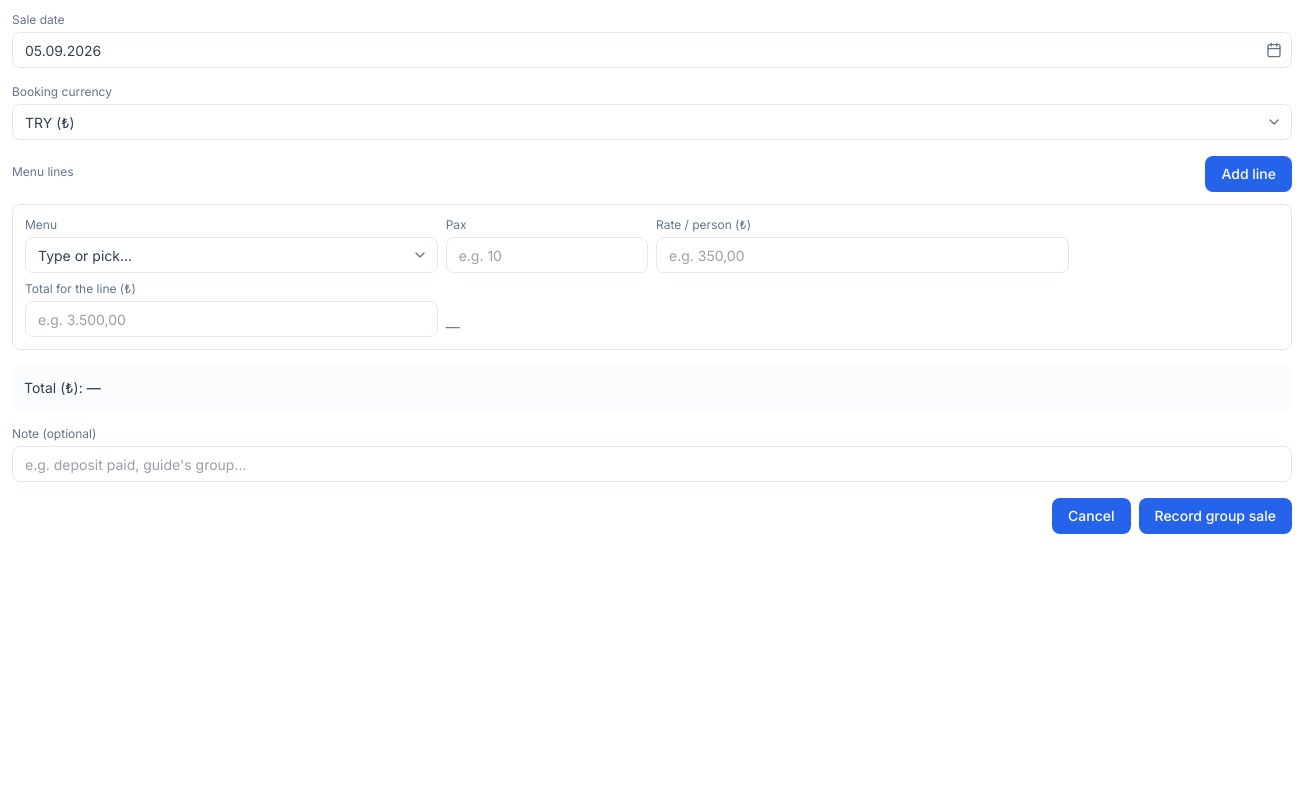
GroupSaleForm rate + footer copy › USD with blank sale-date rate shows optional label, forex-only helper, and conversion footer
Replace the text in the dropdown labelled "Booking currency" with "USD". click: (652, 122)
box: [12,104,1292,140]
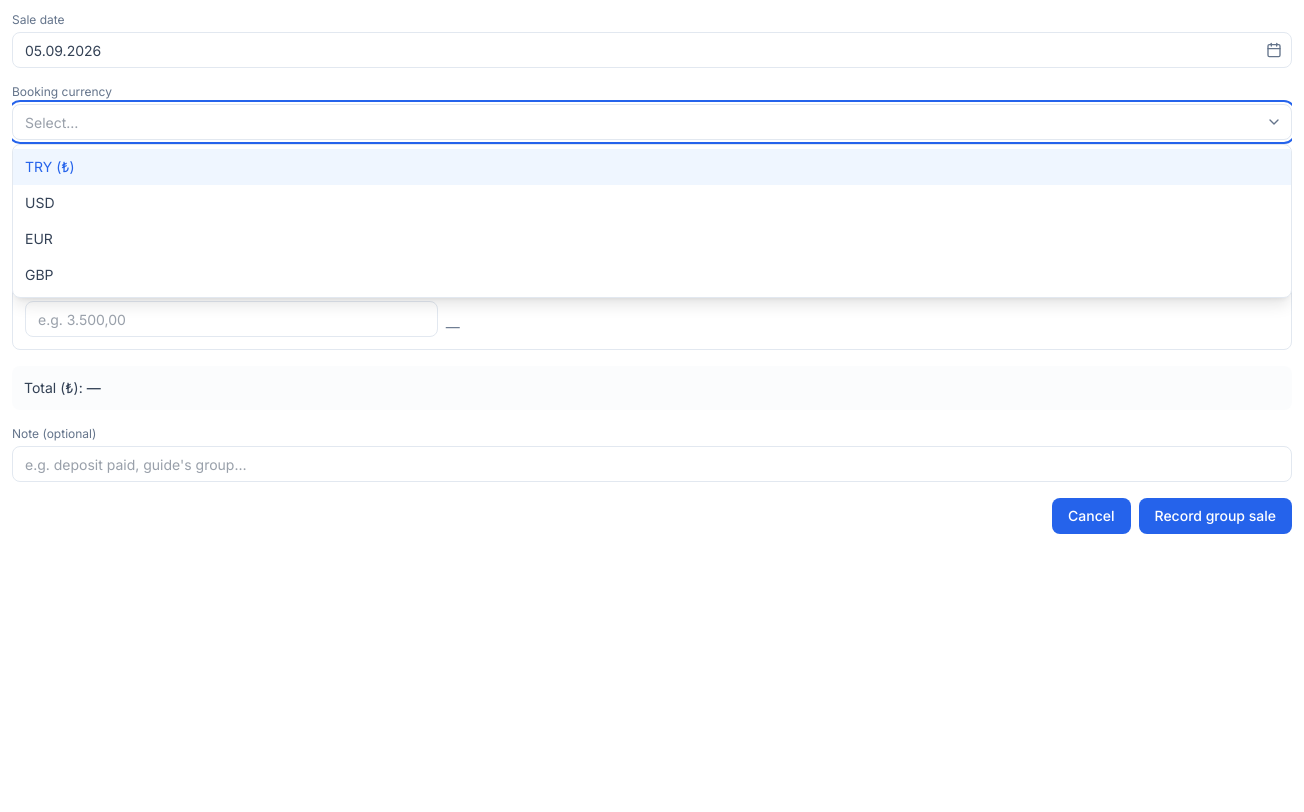
Click the option "USD". click: (40, 202)
box: [13,185,1291,221]
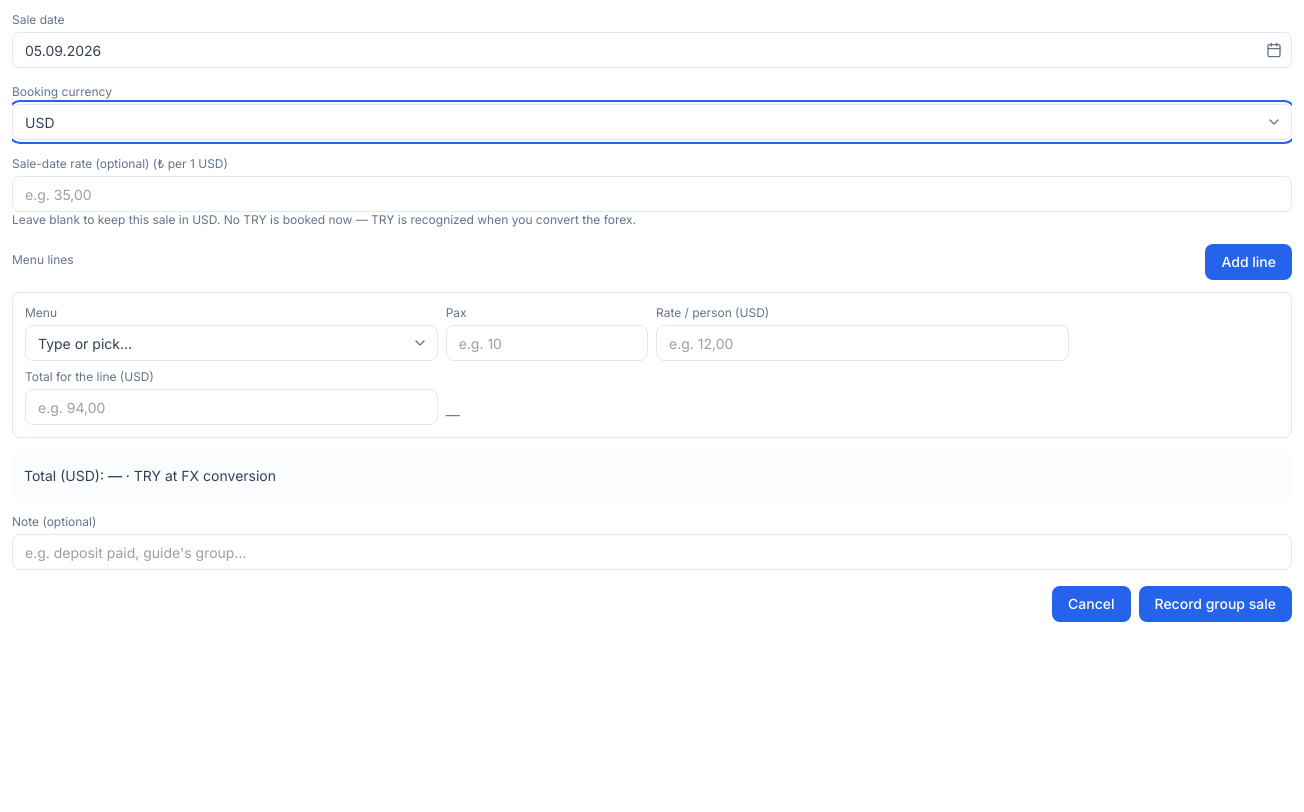
Expected: the field labelled "Sale-date rate (optional) (₺ per 1 USD)" is shown, [12,176,1292,212]
Expected: the text "Leave blank to keep this sale in USD. No TRY is booked now" is shown, [12,212,636,227]
Expected: the text "Total (USD): — · TRY at FX conversion" is shown, [24,467,276,484]
